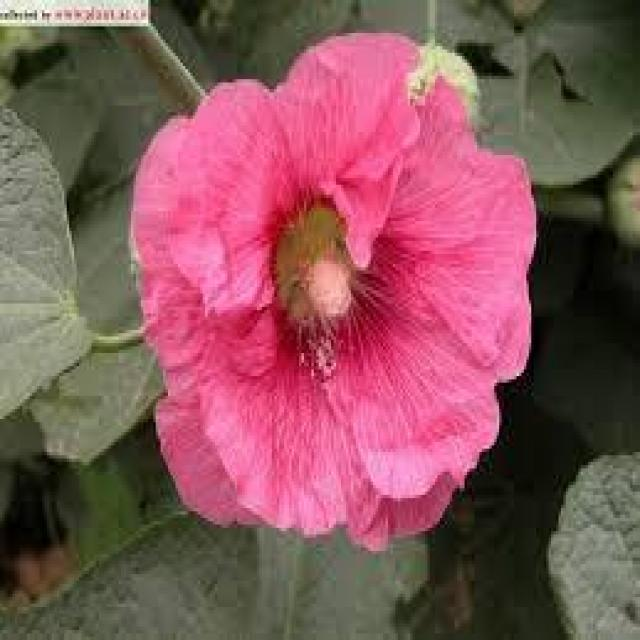organic waste: (120, 36, 540, 551)
